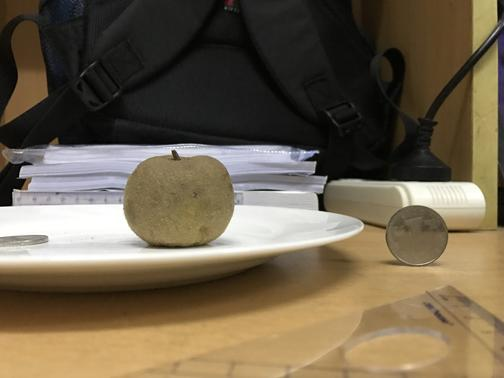coin: (385, 204, 447, 265)
qiwi: (123, 153, 235, 246)
